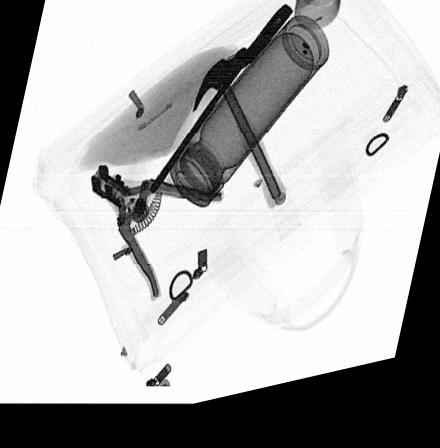Hammer: (190, 58, 289, 227)
Pliers: (91, 165, 226, 308)
Wrench: (144, 12, 292, 204)
